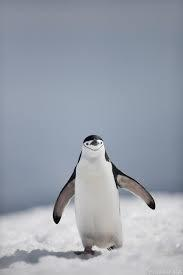chinstrap: (37, 111, 161, 261)
